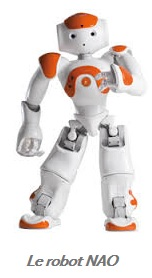nao: (13, 12, 148, 236)
